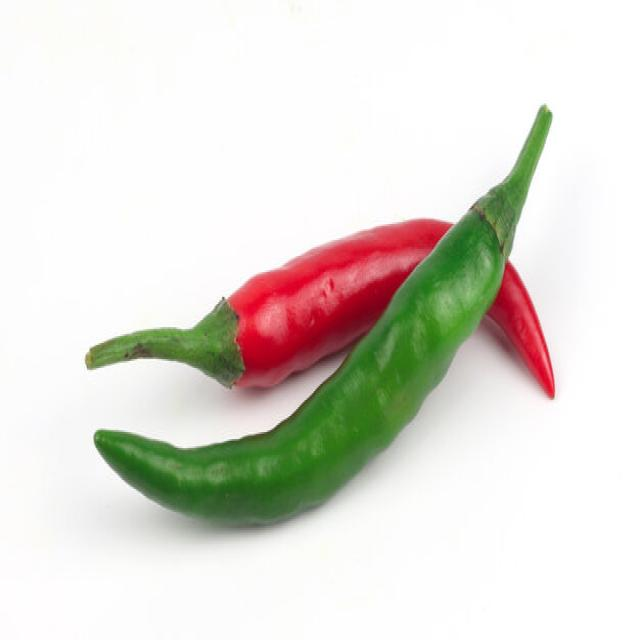Chilli: (87, 103, 555, 526), (84, 212, 555, 396)
